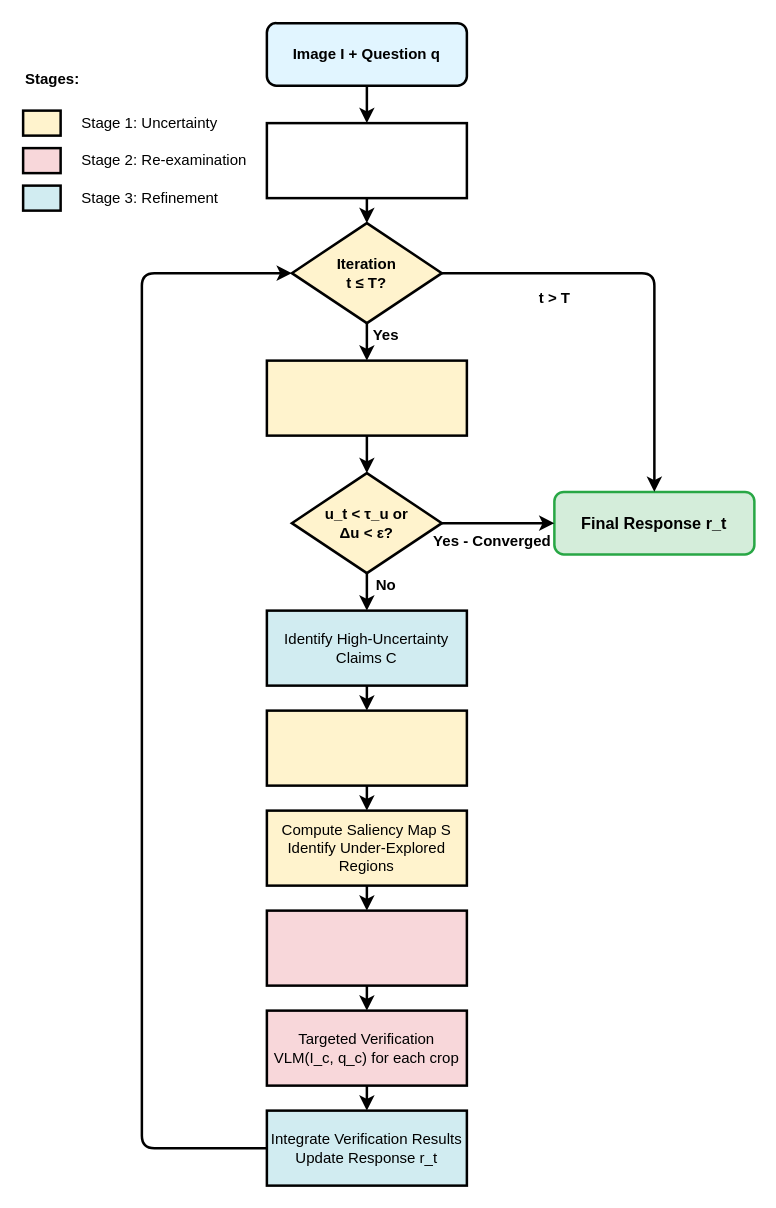
The diagram is 776 pixels wide and 1208 high, and some of its shapes have lost their labels. Here are the shapes that lost their labels. From the top down, the centre of each, then its label:
(x=366, y=160): Initial VLM Generation r₀ = VLM(I, q)
(x=366, y=397): Compute Multi-Dimensional Uncertainty u_t
(x=366, y=747): Extract Attention Maps for each claim c ∈ C
(x=366, y=947): Generate K Multi-Scale Crops 1.2×, 1.5×, 2.0×
